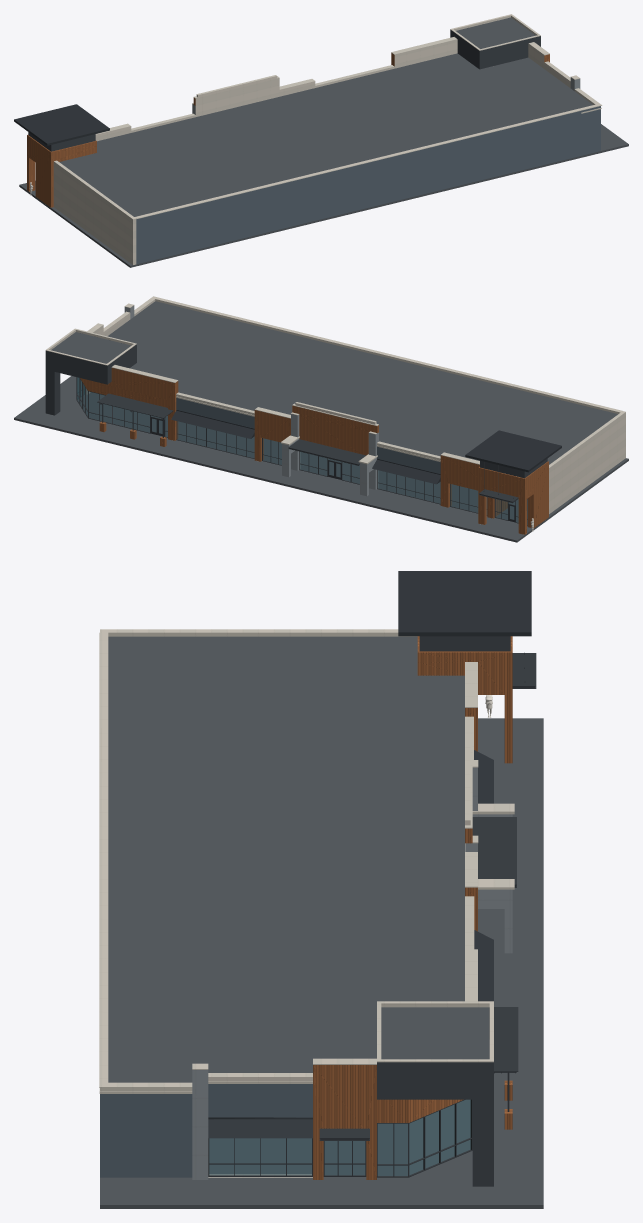
File: station.glb
3 renders of one model, top to bottom at view 1: azimuth 30°, elevation 25°; view 2: azimuth 150°, elevation 25°; view 3: azimuth 270°, elevation 25°, orthographic. The views are drawn at different scales.
Visible parts, largest first — view 1: station; view 2: station; view 3: station.
Boxes of the visible parts, <box> form: station: <box>14,14,628,267</box>; station: <box>14,296,628,542</box>; station: <box>99,571,543,1208</box>.
Size of the model in its own units: 67.06 by 9.04 by 25.46.
11 materials, 4 textured.
